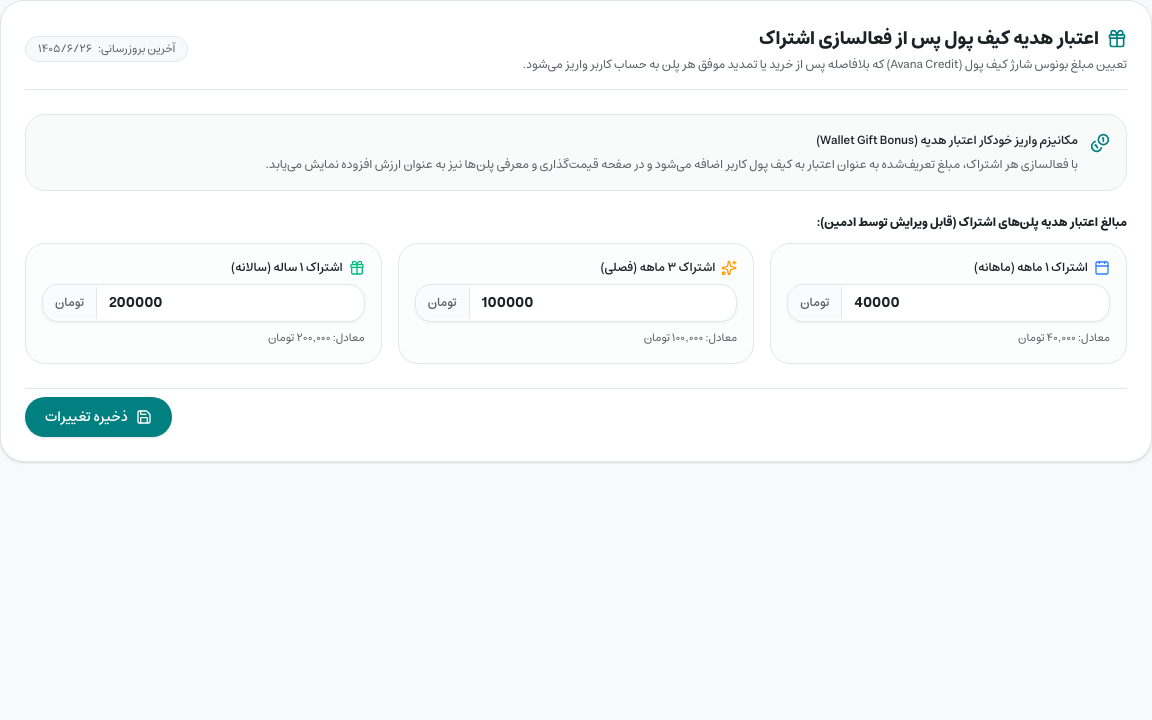
Test: Admin Subscription Gift Credit Bonuses UI Suite › 5. Displays error message when API update fails
Expected: the number field named "مبلغ هدیه اشتراک ۱ ماهه" is shown, 842,285 -> 1109,321
Click the button "ذخیره تغییرات" at (98, 416), box 25,396 -> 172,436
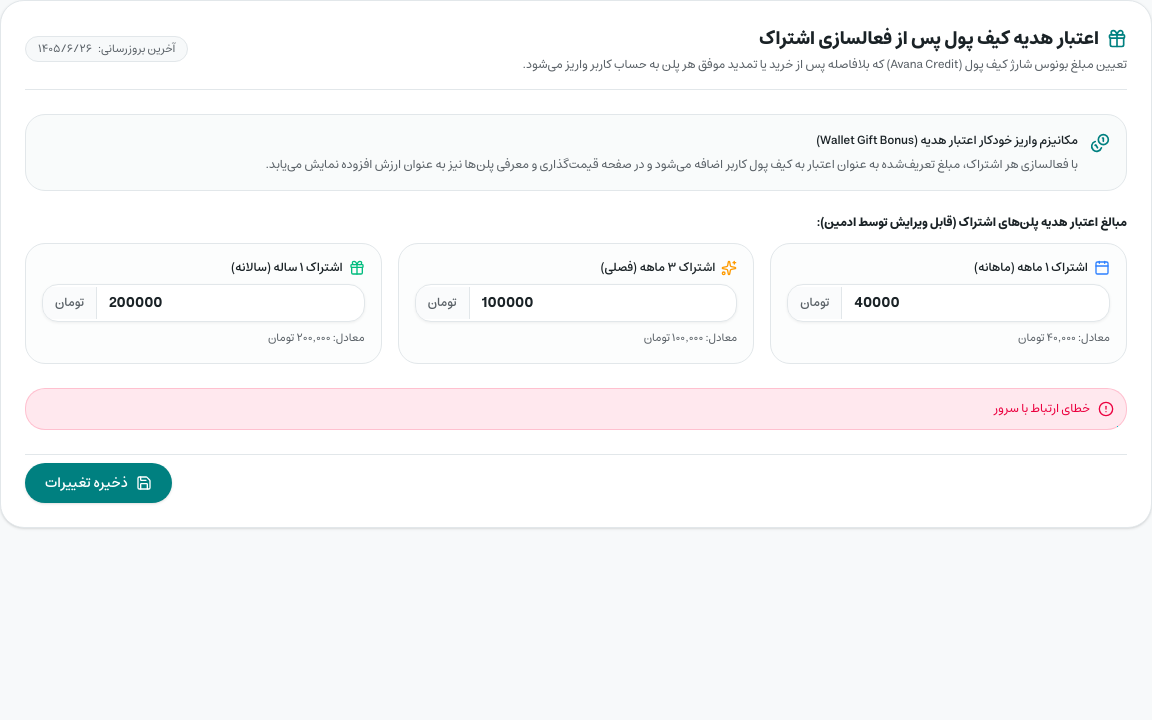
Now the text "خطای ارتباط با سرور" is shown, box 993,400 -> 1090,416
